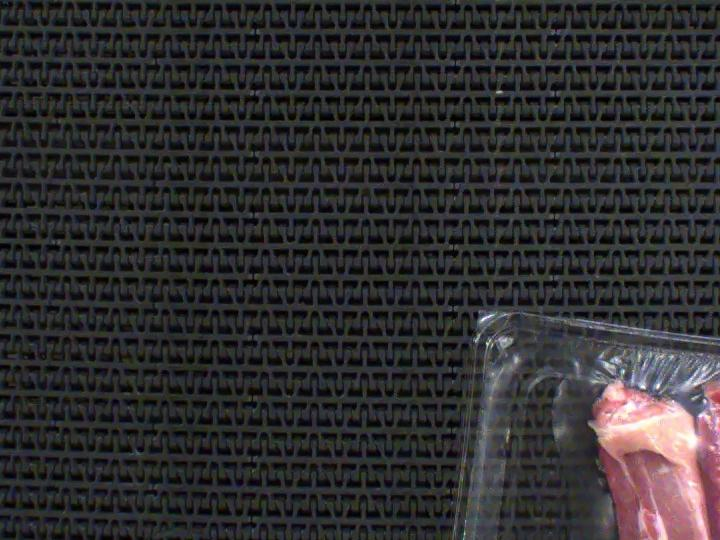unsealed: (493, 332, 720, 540)
